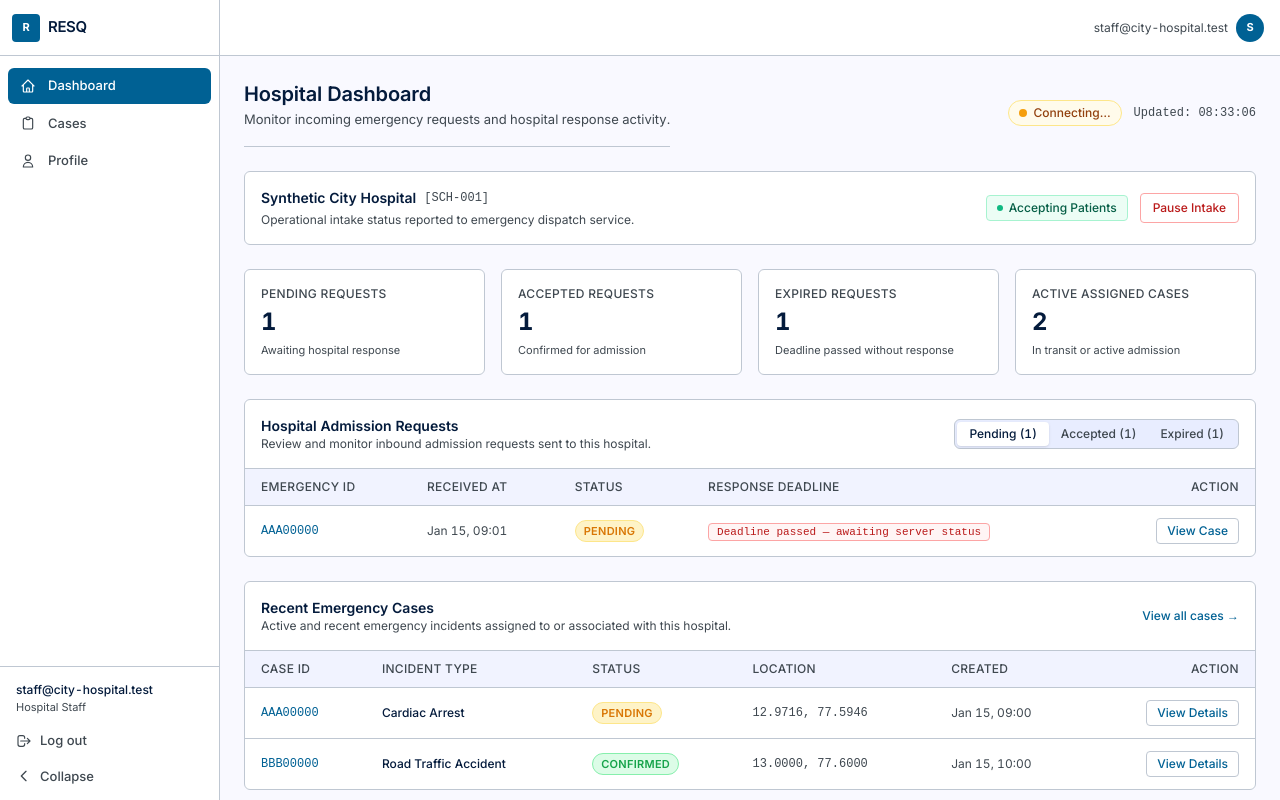
it: Hospital Availability Toggle › toggles intake availability via PATCH /api/v1/hospitals/me/availability
The width and height of the screenshot is (1280, 800).
Click the button "Pause Intake".
click(1189, 208)  # box x1=1140 y1=192 x2=1239 y2=222
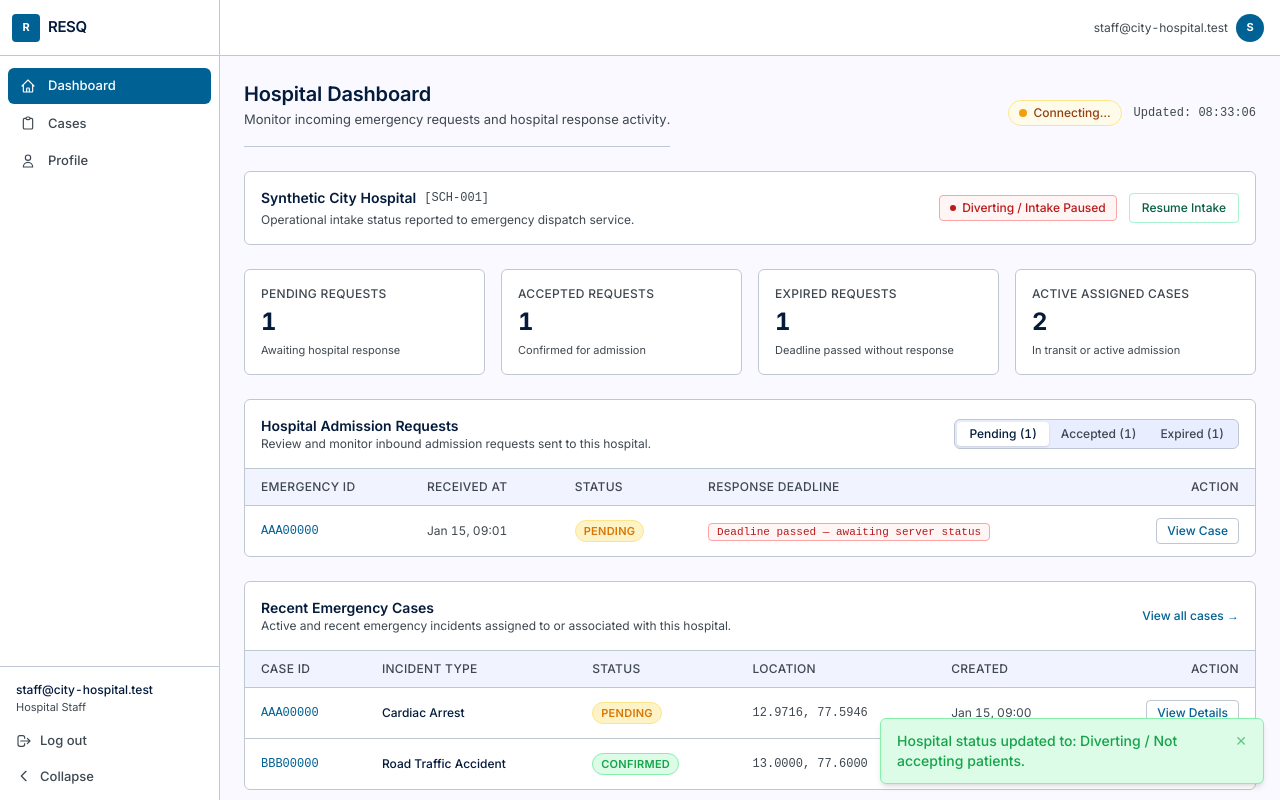
Expected: the text "Diverting / Intake Paused" is shown, x1=939 y1=194 x2=1117 y2=220
